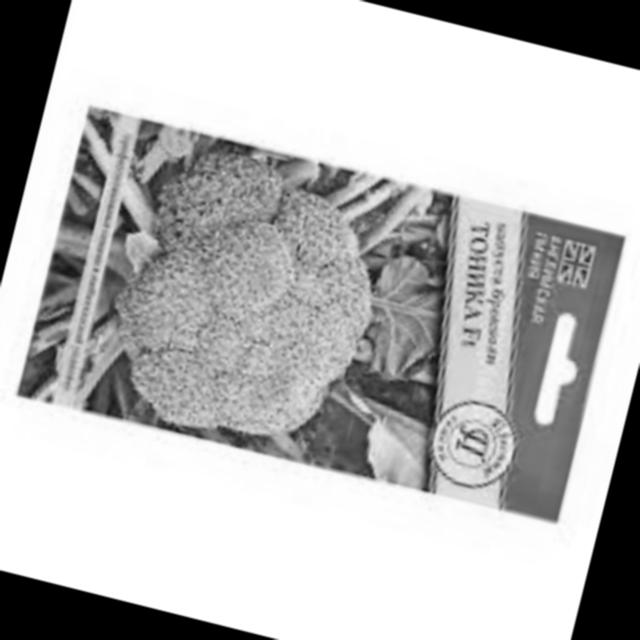bong cai xanh: (78, 110, 440, 488)
